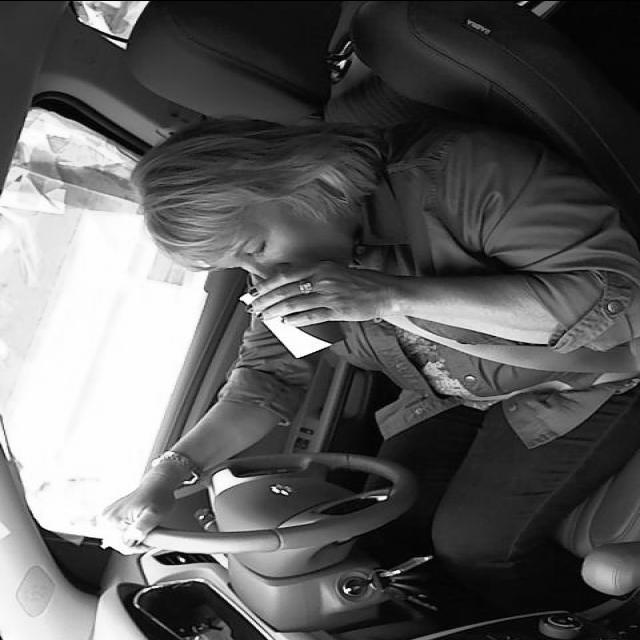drinking: (236, 266, 346, 361)
